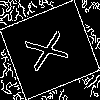X: (24, 24, 78, 73)
